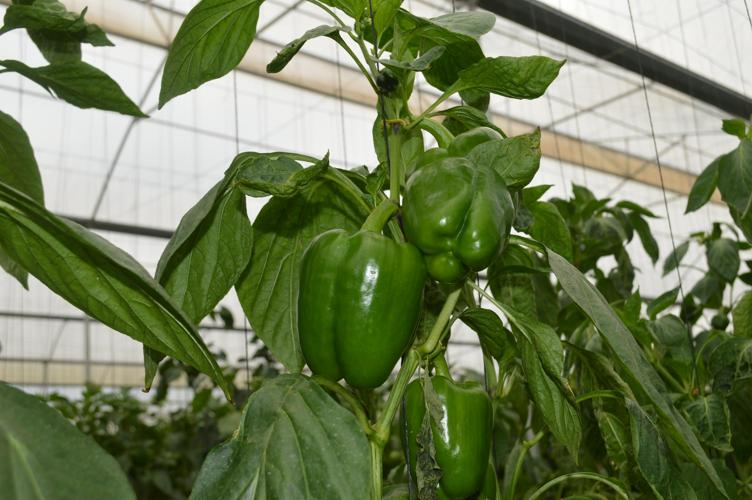BellPepper: (273, 218, 418, 388), (398, 158, 515, 282), (399, 376, 517, 490)
